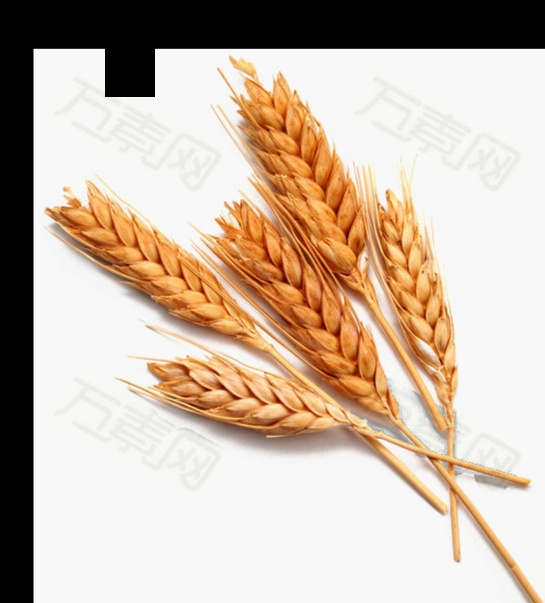wheat: (226, 63, 411, 366), (54, 176, 304, 376), (231, 209, 419, 442), (354, 177, 475, 441), (93, 341, 376, 433)
